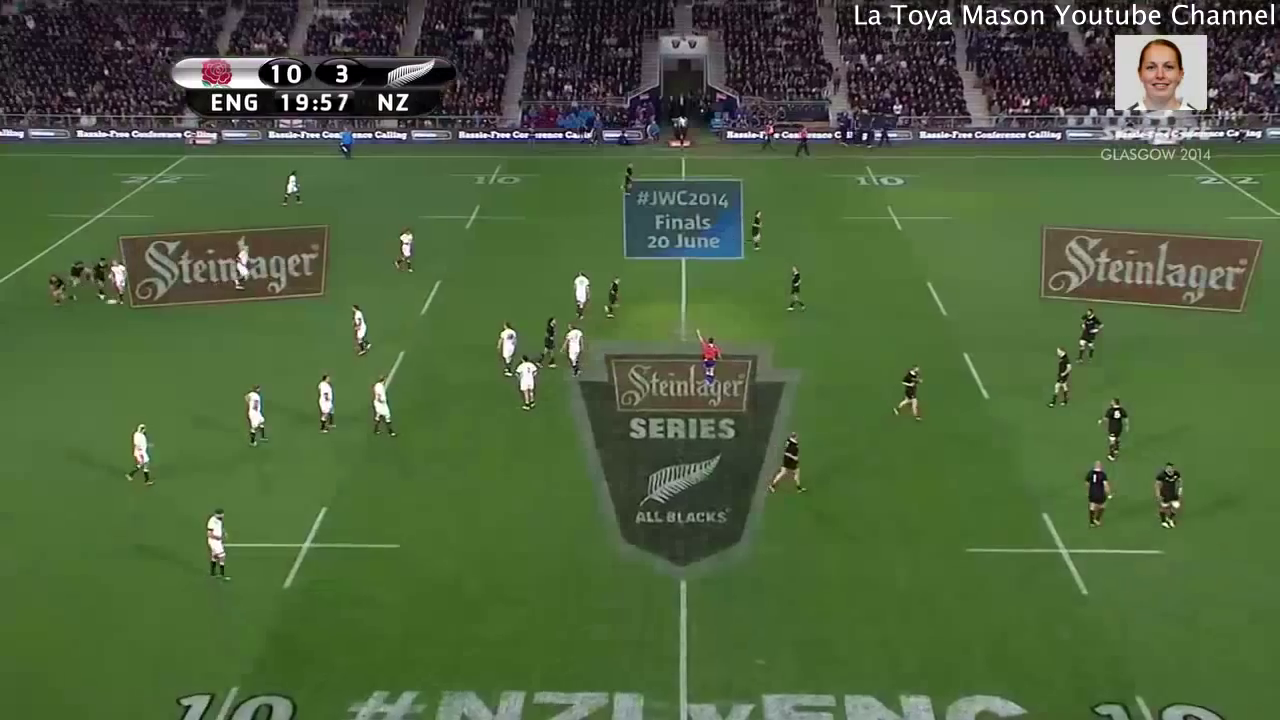10_metre: (955, 508, 1180, 605), (208, 498, 409, 592), (161, 674, 321, 720), (1082, 682, 1247, 720), (833, 201, 956, 236), (416, 201, 530, 236), (447, 162, 541, 195), (821, 162, 935, 189)
player: (759, 427, 810, 504), (117, 416, 164, 493), (1145, 456, 1189, 538), (1091, 390, 1132, 471), (202, 500, 240, 584), (888, 359, 932, 431), (236, 376, 276, 453), (1076, 456, 1114, 536), (365, 368, 403, 444), (529, 311, 564, 380), (1048, 340, 1079, 416), (344, 294, 379, 361), (1065, 305, 1105, 362), (101, 252, 141, 308), (509, 349, 541, 414), (693, 324, 723, 393), (313, 372, 343, 440), (493, 314, 522, 380), (566, 266, 597, 327), (40, 260, 78, 308), (782, 257, 813, 315), (388, 220, 420, 275), (557, 322, 585, 383), (85, 250, 117, 299), (739, 208, 769, 255), (274, 163, 305, 208), (229, 242, 253, 298), (599, 271, 625, 322), (62, 254, 89, 292), (618, 157, 639, 200)
